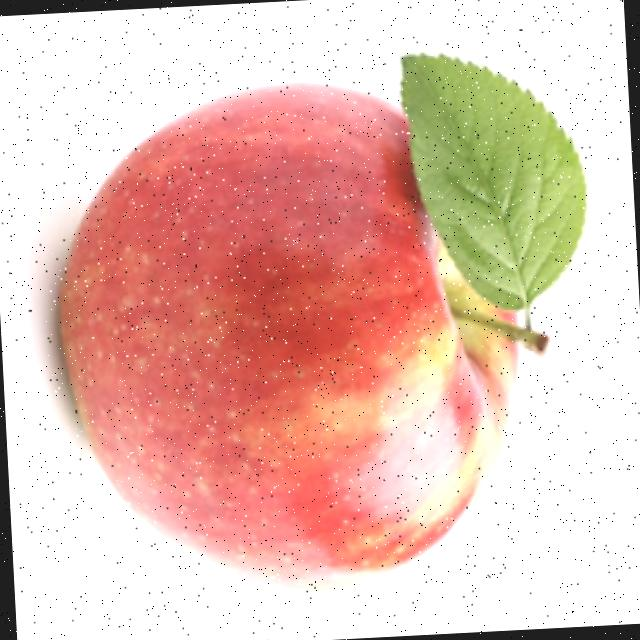Ripe: (37, 64, 534, 618)
